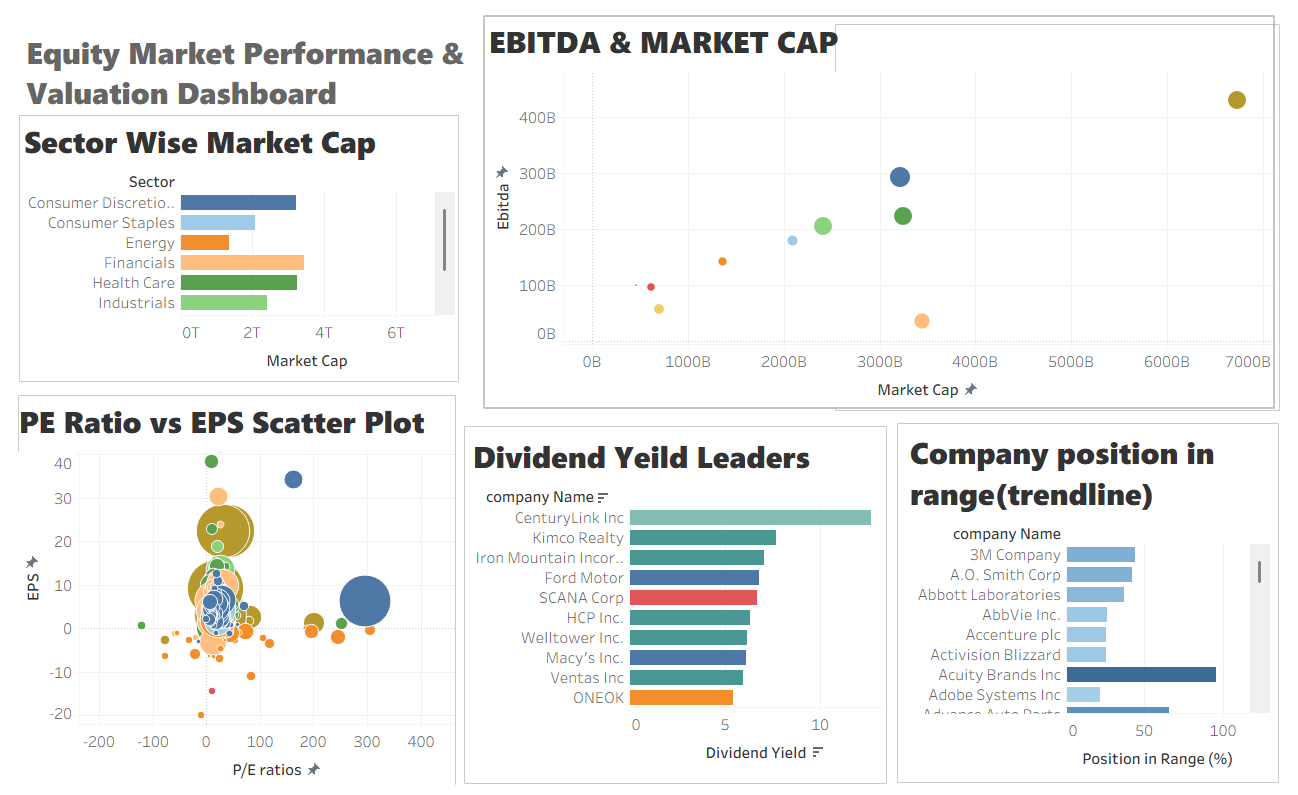

What the dashboard file says about the page in this screenshot:
{"tool":"tableau","page":{"name":"Dashboard 1","canvas":[1000,1000],"units":"permille","ordinal":0},"visuals":[{"type":"worksheet","title":"Sheet 6","mark":"Circle","rows":["EBITDA"],"cols":["Market Cap"],"box":[378,29.9,597,486.3]},{"type":"text","box":[25,41.1,429.6,114.7]},{"type":"worksheet","title":"Sheet 1","mark":"Bar","rows":["Sector"],"cols":["Market Cap"],"box":[25.8,154.6,329.6,325.4]},{"type":"worksheet","title":"Sheet 2","mark":"Circle","rows":["EPS"],"cols":["P/E ratios"],"box":[22,503.7,333.3,486.3]},{"type":"worksheet","title":"Sheet 7","mark":"Automatic","rows":["company_Name"],"cols":["Calculation_101893950050521092"],"box":[697,542.4,275.8,433.9]},{"type":"worksheet","title":"Sheet 4","mark":"Automatic","rows":["company_Name"],"cols":["Dividend Yield"],"box":[365.9,547.4,313.6,430.2]}]}

Visuals, with their boxes on the dashboard's canvas, which has no fixed pixel size, in thousandths of its width and height (x1, y1, x2, y2). These are canvas units, not pixel positions in the 1298x795 screenshot, which may show the page scaled, cropped or inside an application window:
"Sheet 6" worksheet (Circle marks): (x1=378, y1=30, x2=975, y2=516)
text: (x1=25, y1=41, x2=455, y2=156)
"Sheet 1" worksheet (Bar marks): (x1=26, y1=155, x2=355, y2=480)
"Sheet 2" worksheet (Circle marks): (x1=22, y1=504, x2=355, y2=990)
"Sheet 7" worksheet: (x1=697, y1=542, x2=973, y2=976)
"Sheet 4" worksheet: (x1=366, y1=547, x2=680, y2=978)
